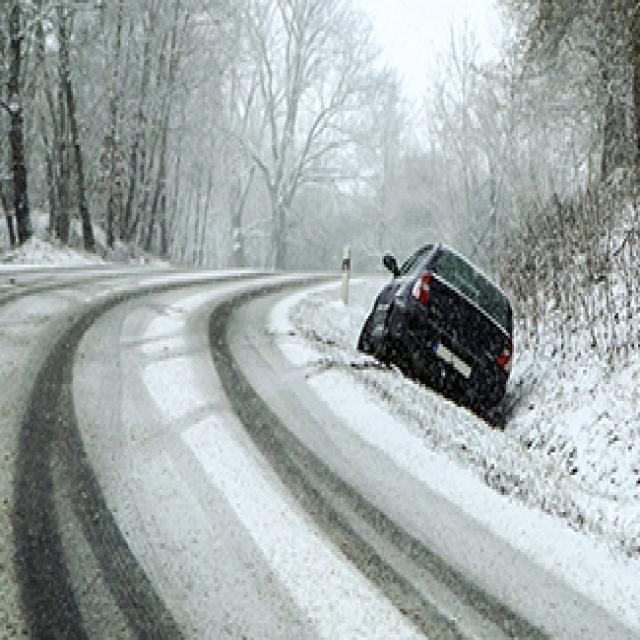Accident: (353, 226, 528, 434)
